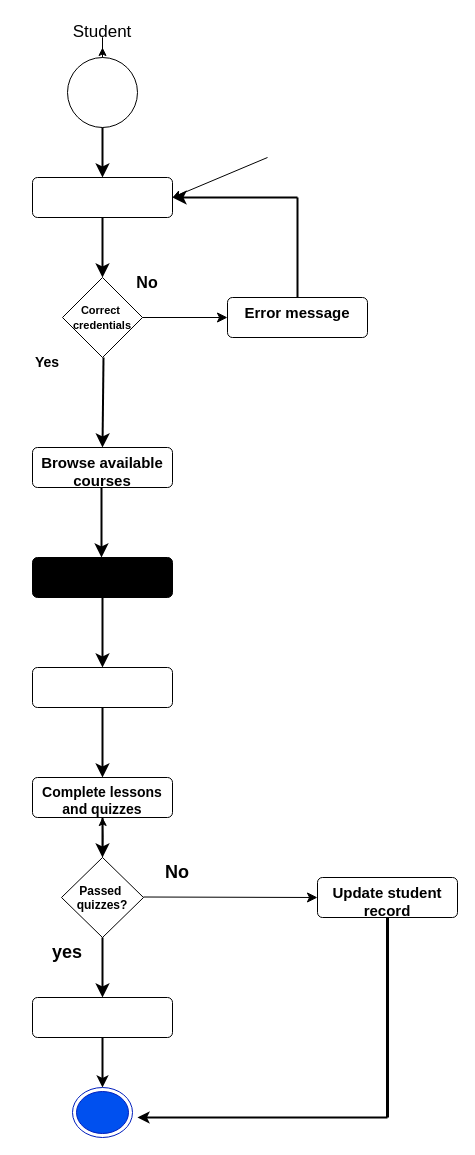
This 475x1155 diagram has some shape labels left out. Here are the shapes that lost their labels. From the top down, the centre of each, then its label:
At point 102,197: "Login".
At point 102,687: "Update enrollment record of student".
At point 102,1017: "Earn certificate and update student record".
